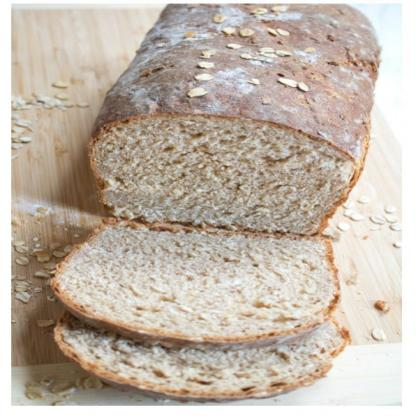bread: (52, 219, 340, 348), (55, 310, 350, 398)
bread_loaf: (91, 5, 381, 235)
